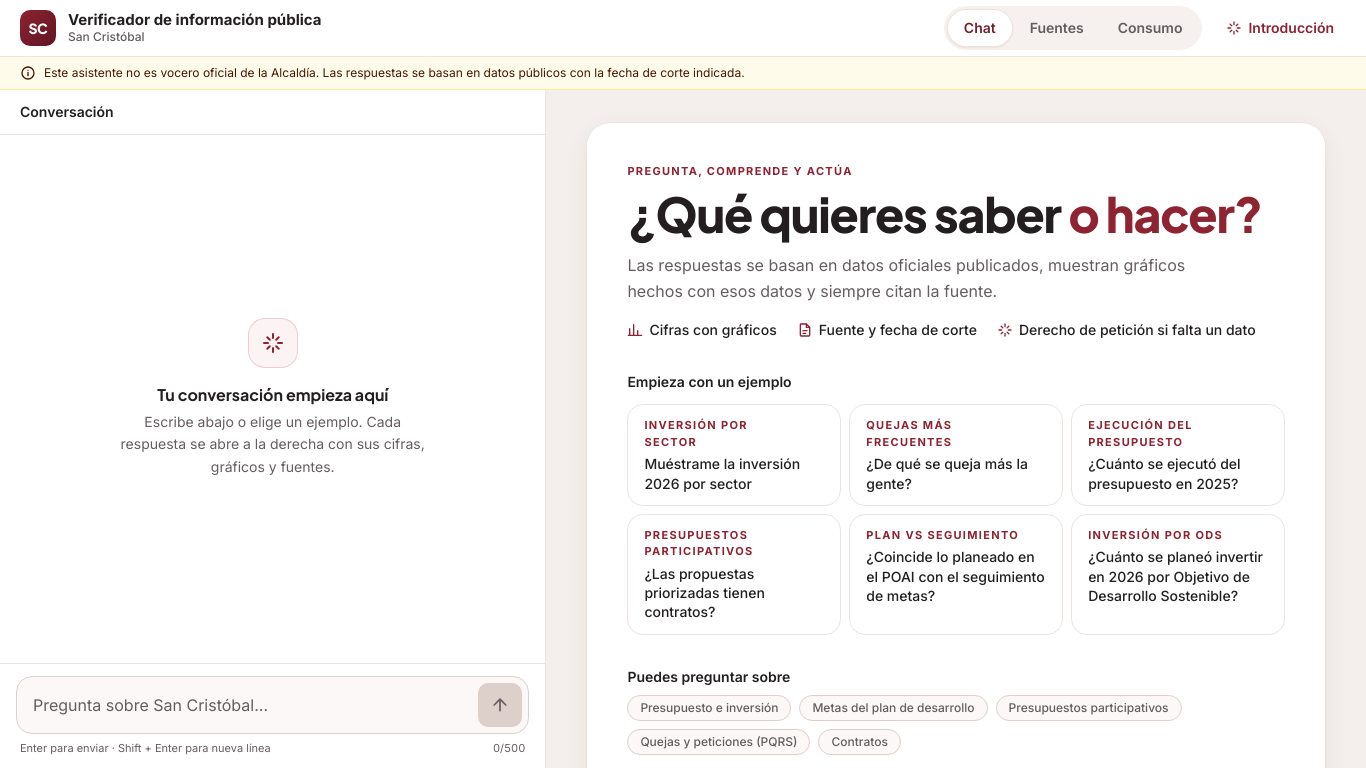
Test: Chat workspace on desktop › keeps answers as previews in the conversation and opens the selected one in the panel
Later steps or results of the test are not shown.
Type "Pregunta uno" into the text box named "Escribe tu pregunta" at (252, 704), box [33,682,470,726]
Then press Enter
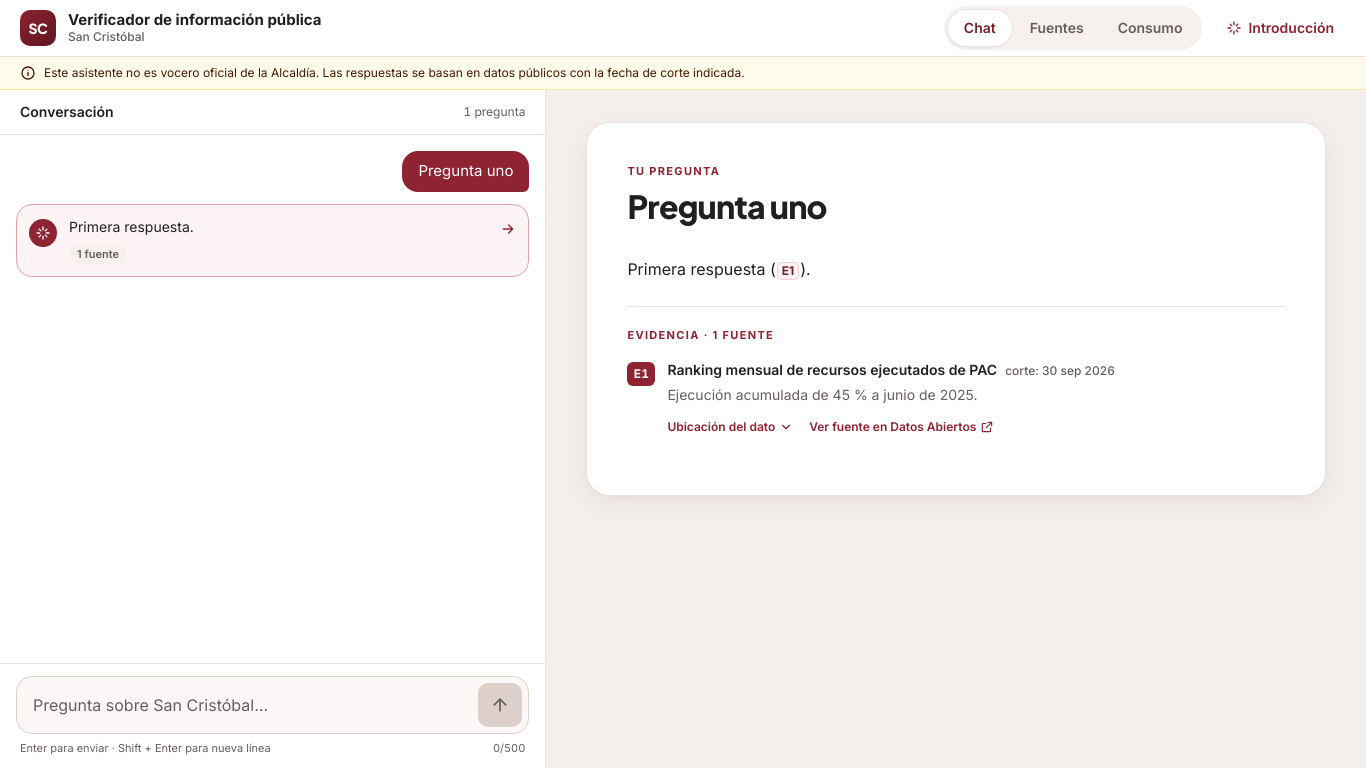
Expected: the element "Pregunta uno" is shown, [586,122,1326,496]
Type "Pregunta dos" into the text box named "Escribe tu pregunta" at (252, 704), box [33,682,470,726]
Then press Enter
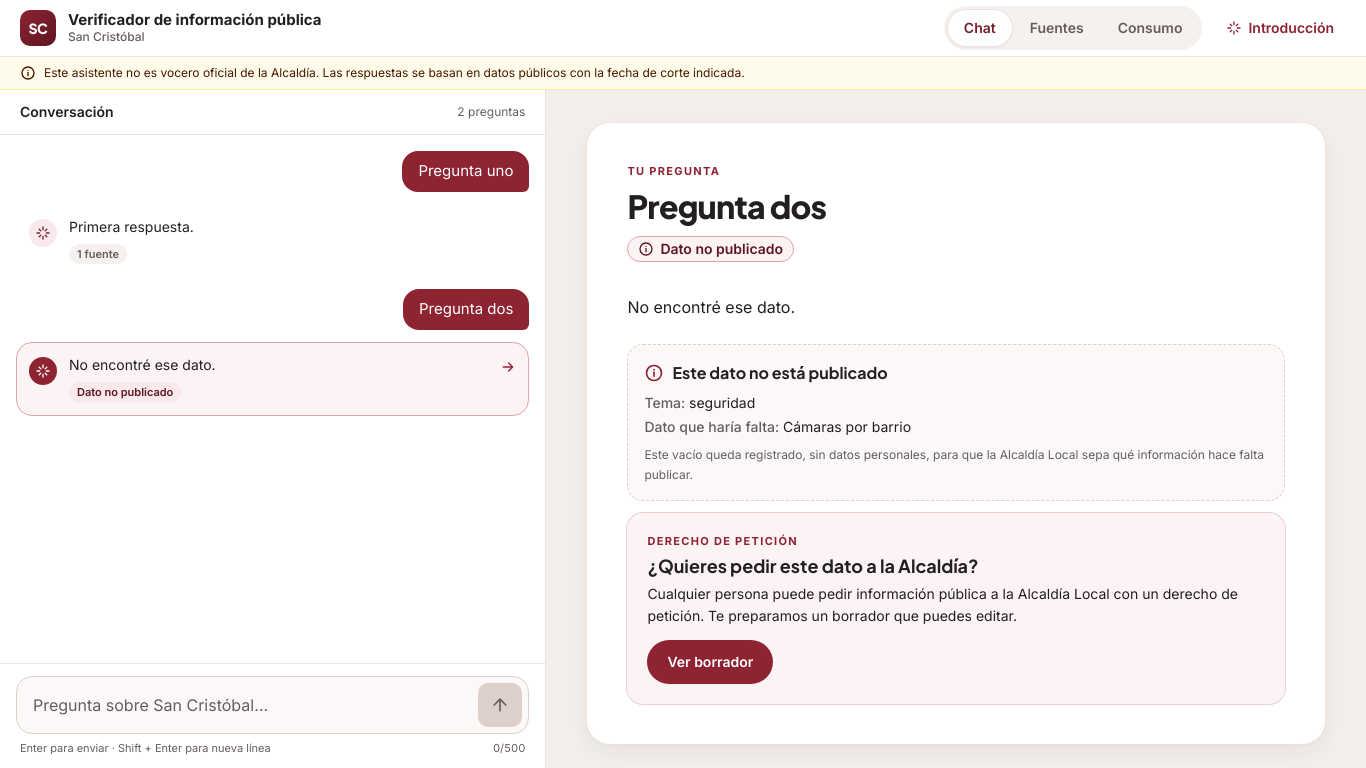
Expected: the element "¿Quieres pedir este dato a la Alcaldía?" is shown, [627,513,1285,704]
Expected: the button named "Respuesta:" shows "Dato no publicado", [16,342,529,416]
Click the button named "Respuesta:" at (110, 228), box [16,204,529,277]
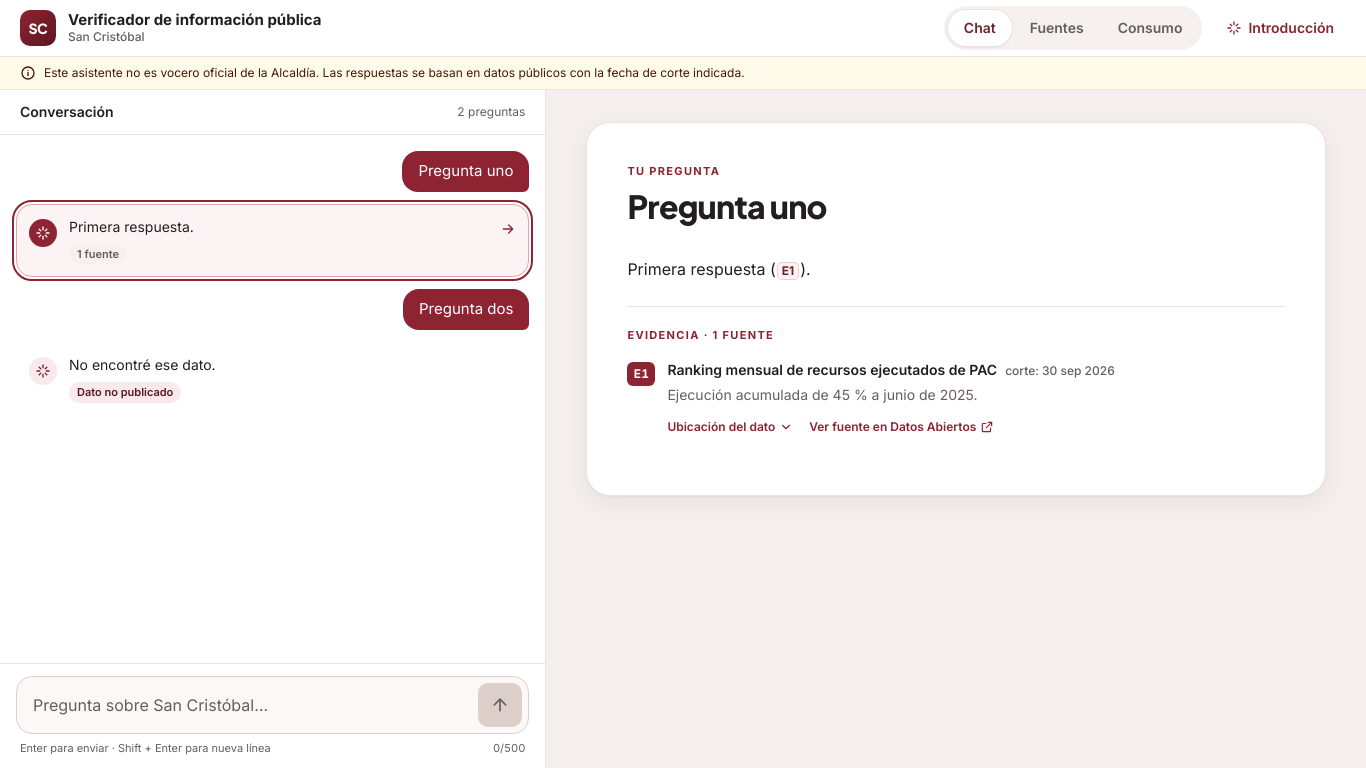
Expected: the text "Primera respuesta ( E1 )." is shown, [627,259,811,279]
